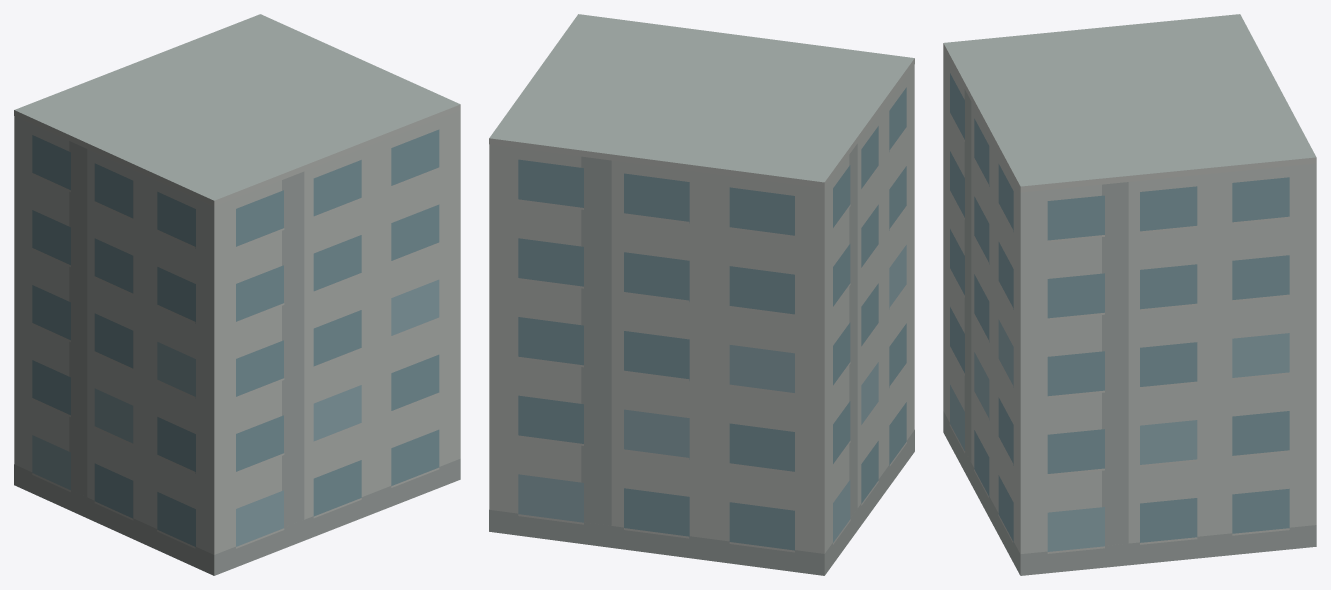
The model's file is survey-upis-32803418.glb.
The picture shows the model from 3 angles, left to right: view 1: azimuth 30°, elevation 25°; view 2: azimuth 150°, elevation 25°; view 3: azimuth 270°, elevation 25°; orthographic projection. The views are drawn at different scales.
Visible parts, largest first — view 1: survey-upis-32803418.tmp; view 2: survey-upis-32803418.tmp; view 3: survey-upis-32803418.tmp.
Part boxes in pixels (x1,y1,x2,y2): survey-upis-32803418.tmp: (14, 14, 460, 575); survey-upis-32803418.tmp: (489, 14, 914, 575); survey-upis-32803418.tmp: (943, 14, 1316, 575).
Size of the model in its own units: 14.83 by 15.6 by 13.56.
